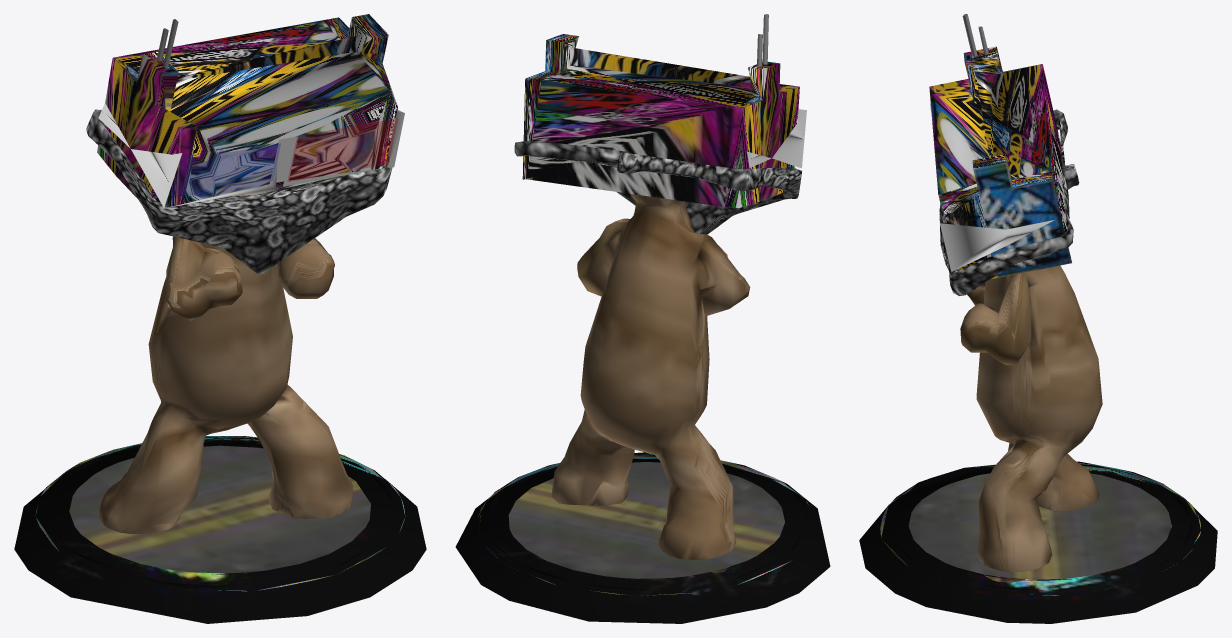
3 views of the same model, side by side, from view 1: azimuth 30°, elevation 25°; view 2: azimuth 150°, elevation 25°; view 3: azimuth 270°, elevation 25° (orthographic). The views are drawn at different scales.
Size of the model in its own units: 1.44 by 2.18 by 1.43.
9 materials, 5 textured.
